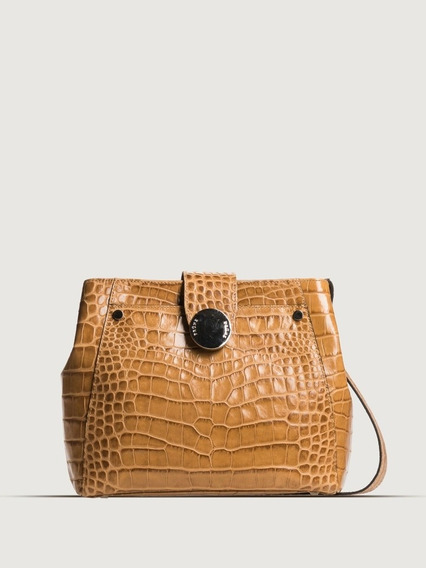cartera: (60, 271, 391, 498)
